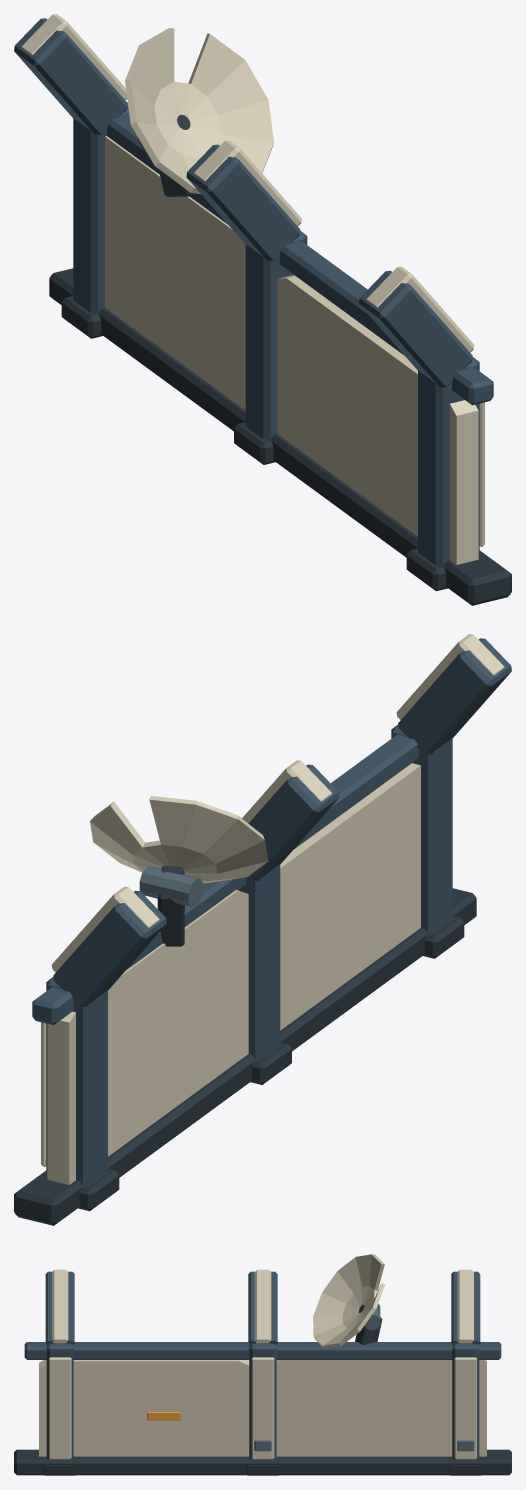
Rendered from survey-right-wall.glb.
3 renders of one model, top to bottom at view 1: azimuth 30°, elevation 25°; view 2: azimuth 150°, elevation 25°; view 3: azimuth 270°, elevation 25°, orthographic. The views are drawn at different scales.
Parts seen in each view (by area): view 1: survey-right-wall; view 2: survey-right-wall; view 3: survey-right-wall.
Boxes of the visible parts, x1,y1,x2,y2 form: survey-right-wall: (14,14,511,605); survey-right-wall: (14,634,511,1225); survey-right-wall: (14,1254,511,1475).
Size of the model in its own units: 1.47 by 3.17 by 7.
1 material, 1 textured.
